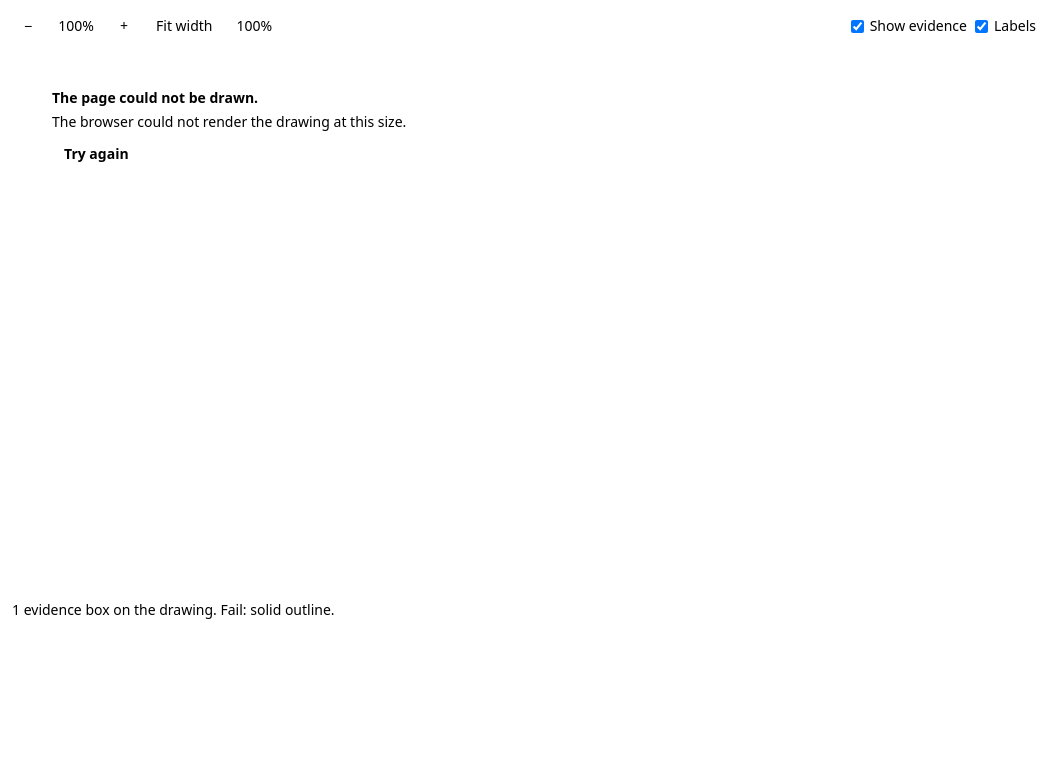
rendering › reports a failed render, hides the boxes, and can try again
Expected: the text "The page could not be drawn." is shown, top-left (52, 88), bottom-right (258, 107)
Click the button "Try again" at (96, 154), box top-left (52, 140), bottom-right (141, 168)
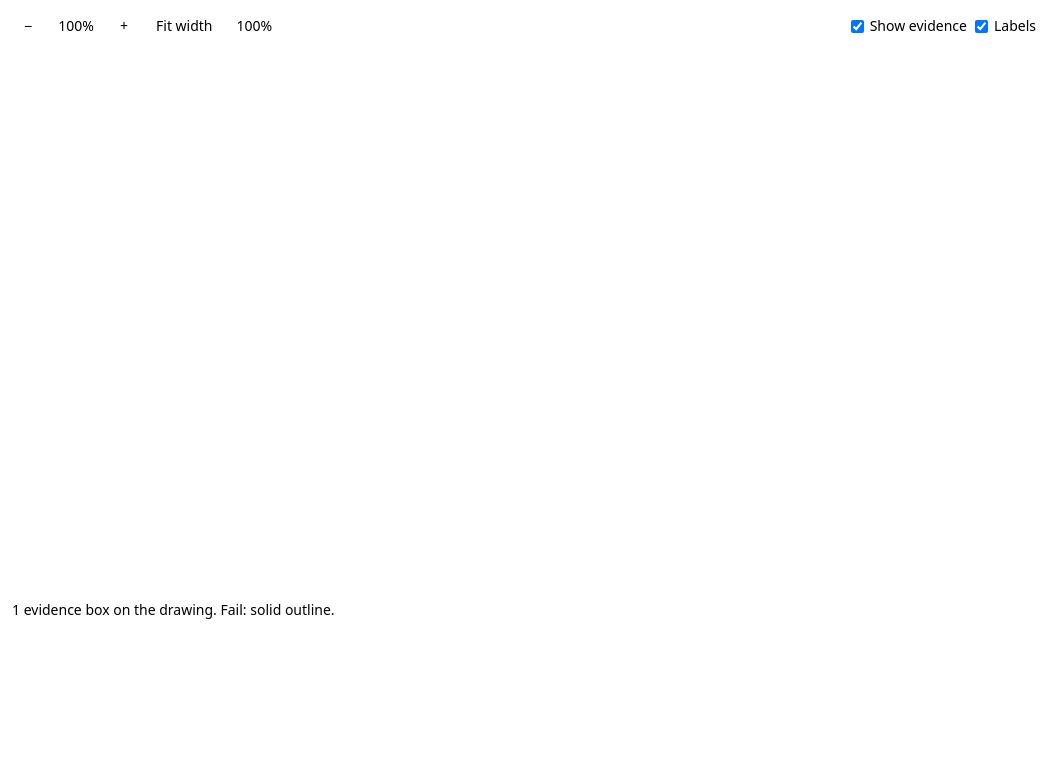
Expected: the message is gone
